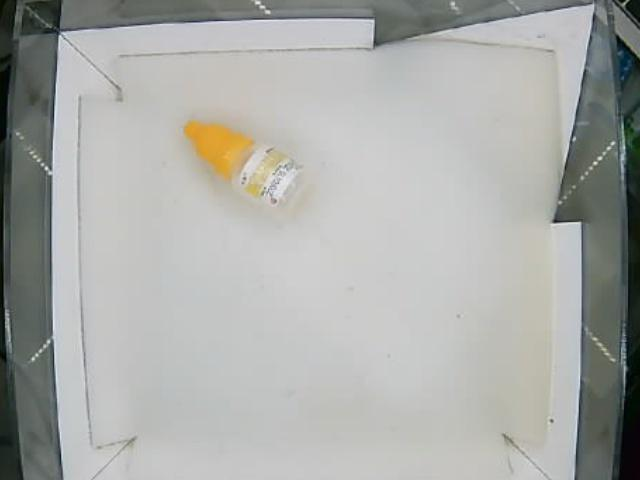Bottle: (178, 118, 315, 220)
